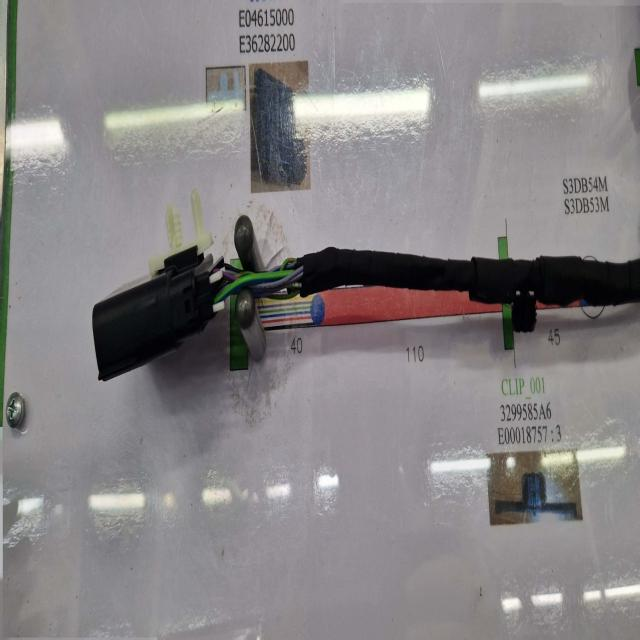Clip: (511, 291, 536, 333)
Connector: (92, 246, 216, 380)
Gape: (227, 252, 317, 311)
MHEV_N11_Cable: (301, 246, 640, 333)
